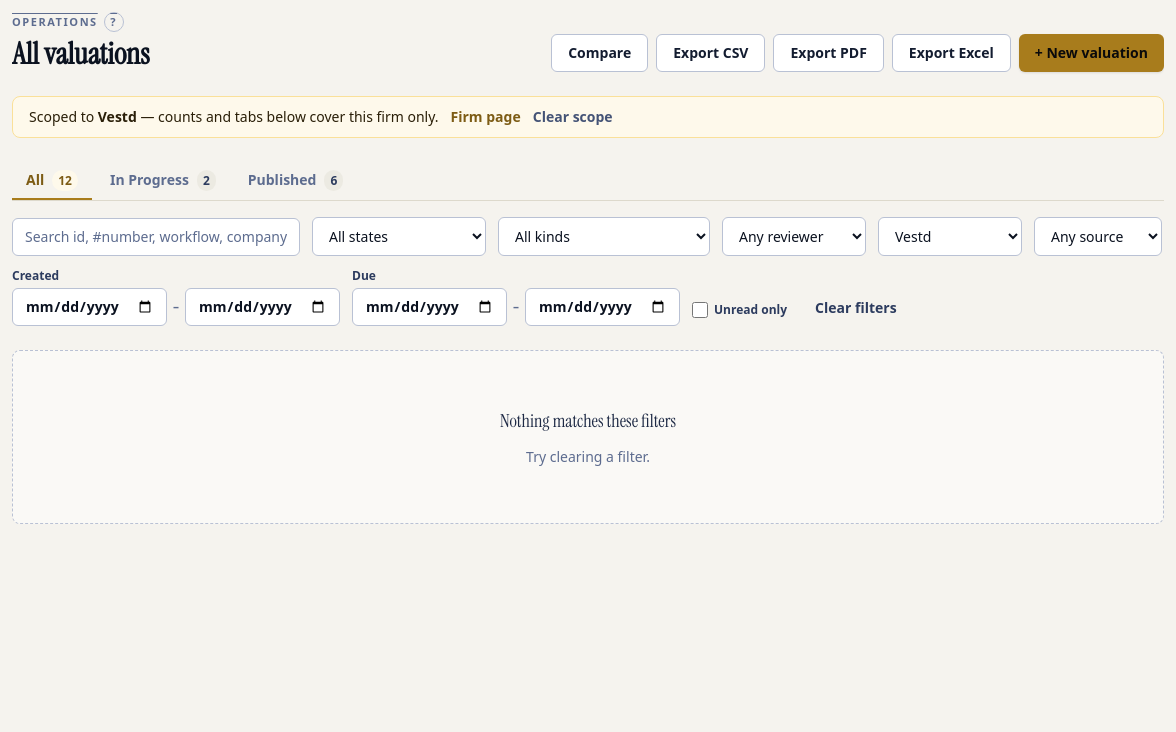
it: ValuationsPage partner scope › offers a way back to the firm page and a way out of the scope
Expected: the text "cover this firm only" is shown, [137,107,439,126]
Click the button "Clear scope" at (573, 117), box [533,107,613,127]
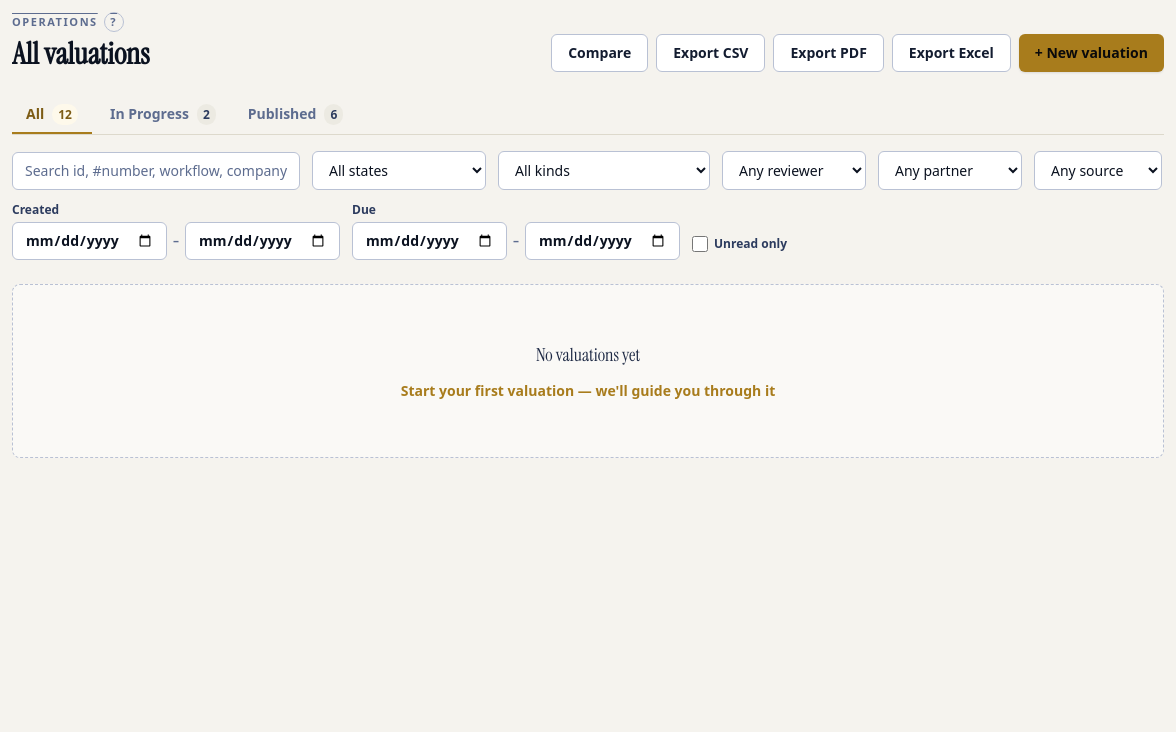
Result: the text "cover this firm only" is gone
